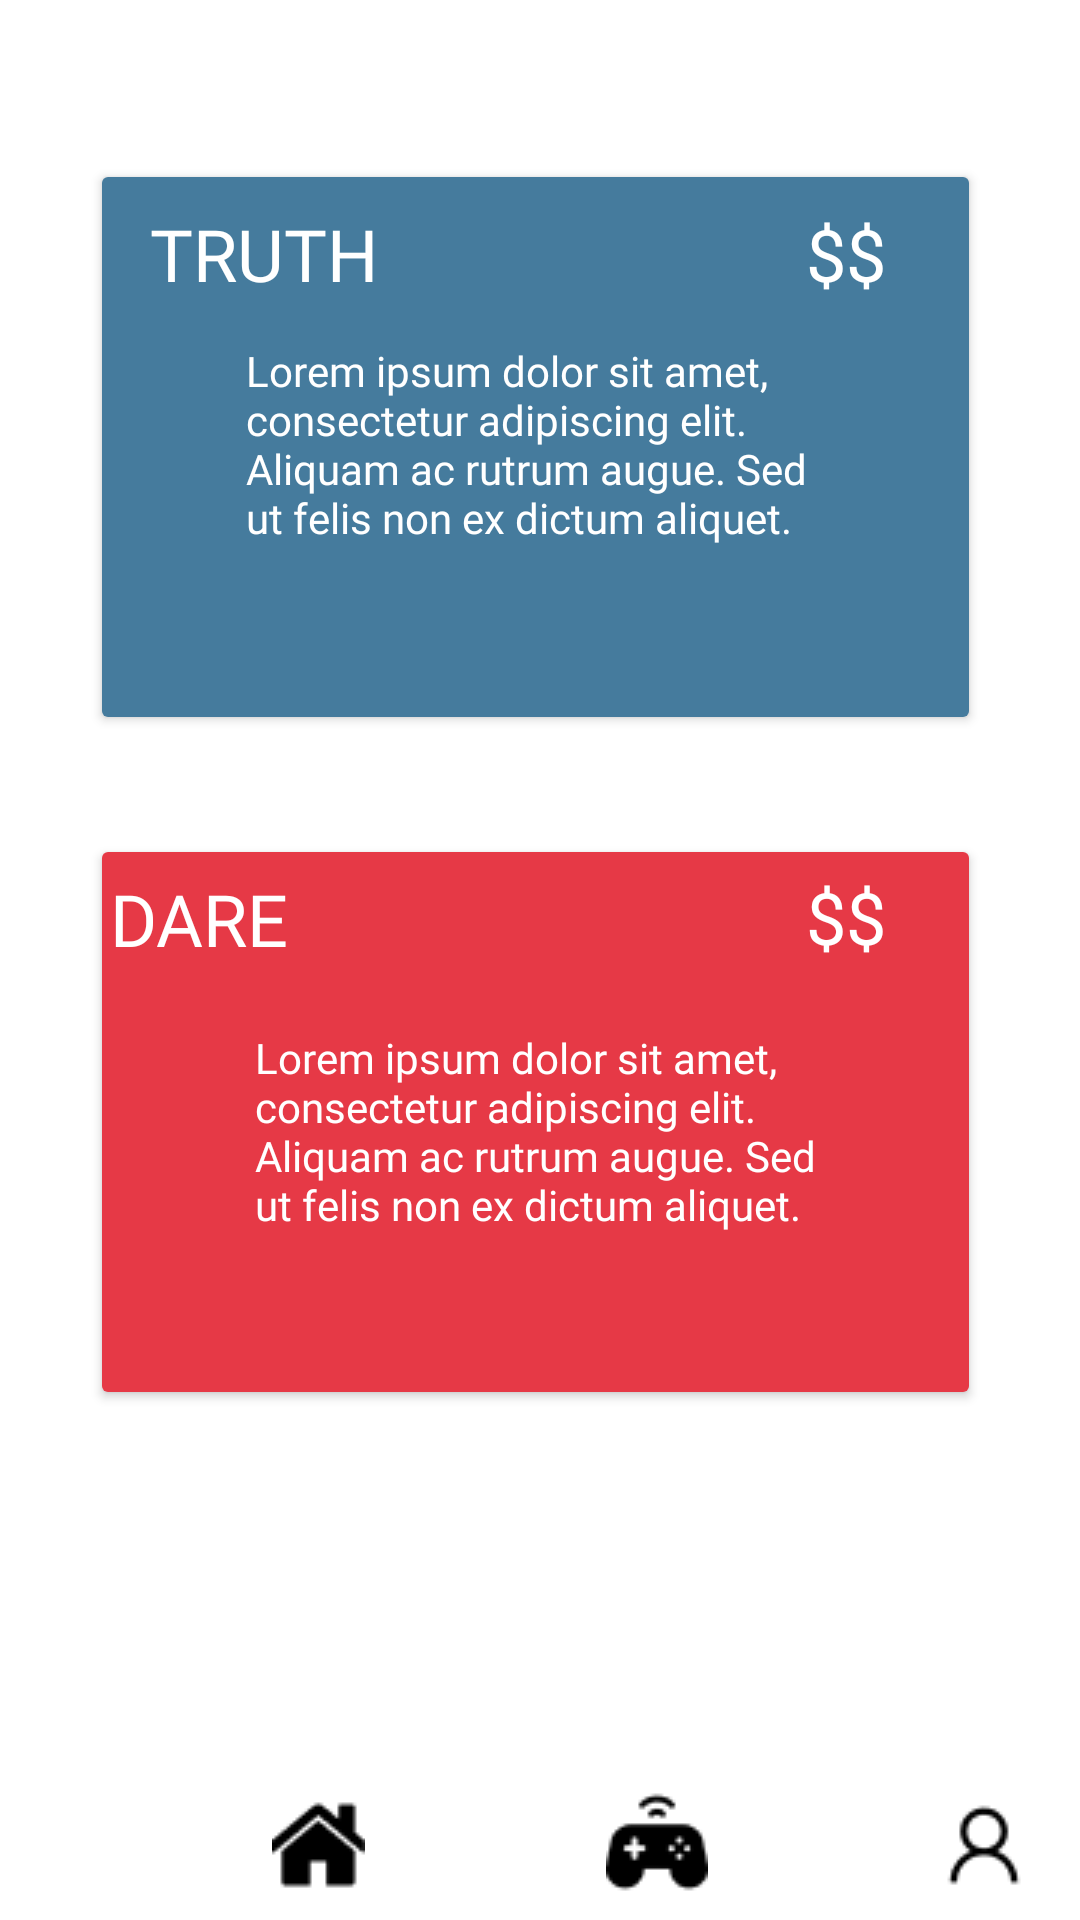

Screen size 1080*1920. Icon name, then its box in pixels as (x1, y1, x2, y2):
home: (272, 1802, 365, 1888)
user: (948, 1805, 1020, 1885)
